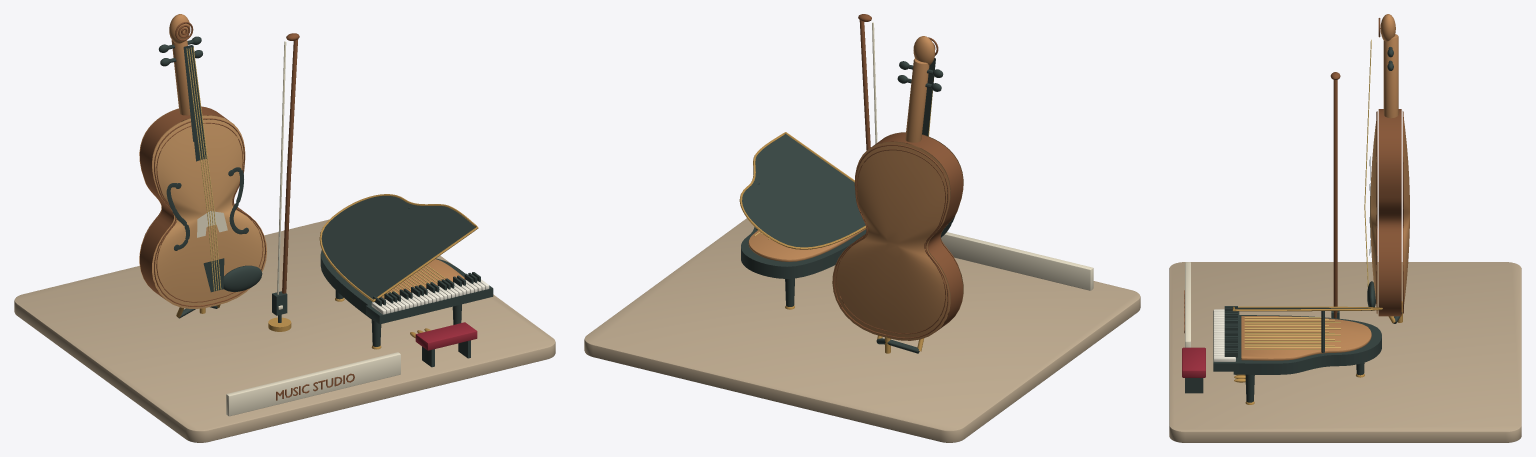
File: music-studio.glb
3 renders of one model, left to right at view 1: azimuth 30°, elevation 25°; view 2: azimuth 150°, elevation 25°; view 3: azimuth 270°, elevation 25°, orthographic. The views are drawn at different scales.
Parts seen in each view (by area): view 1: Sand.001, Dark.001, Maple Light.001, Walnut.001, Ivory.001, Maple.001, Gold.001, Brass.001, Porcelain.001, Velvet.001, Paper.001; view 2: Sand.001, Maple.001, Dark.001, Walnut.001, Ivory.001, Brass.001; view 3: Sand.001, Maple.001, Walnut.001, Dark.001, Gold.001, Maple Light.001, Brass.001, Velvet.001, Porcelain.001, Ivory.001.
Boxes of the visible parts, box(x1,y1,x2,y2) form: Sand.001: box(14, 219, 555, 442); Dark.001: box(158, 36, 493, 367); Maple Light.001: box(152, 115, 266, 308); Walnut.001: box(140, 22, 354, 400); Ivory.001: box(197, 211, 400, 416); Maple.001: box(139, 14, 464, 302); Gold.001: box(186, 47, 445, 297); Brass.001: box(176, 194, 478, 349); Porcelain.001: box(371, 279, 489, 314); Velvet.001: box(415, 322, 477, 350); Paper.001: box(277, 41, 286, 294); Sand.001: box(584, 218, 1140, 442); Maple.001: box(748, 36, 950, 340); Dark.001: box(741, 58, 955, 353); Walnut.001: box(833, 14, 962, 338); Ivory.001: box(941, 232, 1093, 290); Brass.001: box(739, 132, 923, 353); Sand.001: box(1169, 262, 1521, 442); Maple.001: box(1241, 14, 1409, 360); Walnut.001: box(1184, 18, 1403, 333); Dark.001: box(1185, 47, 1402, 402); Gold.001: box(1244, 39, 1371, 349); Maple Light.001: box(1370, 111, 1377, 313); Brass.001: box(1232, 301, 1402, 404); Velvet.001: box(1182, 347, 1205, 377); Porcelain.001: box(1213, 309, 1235, 361); Ivory.001: box(1185, 262, 1190, 347).
Bounding box in the file's own units: 8.1 × 6.79 × 7.1.
